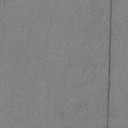surface scratch: (104, 0, 112, 128)
